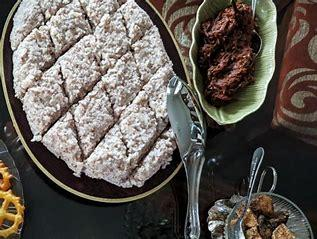Kiribath: (7, 3, 181, 190)
